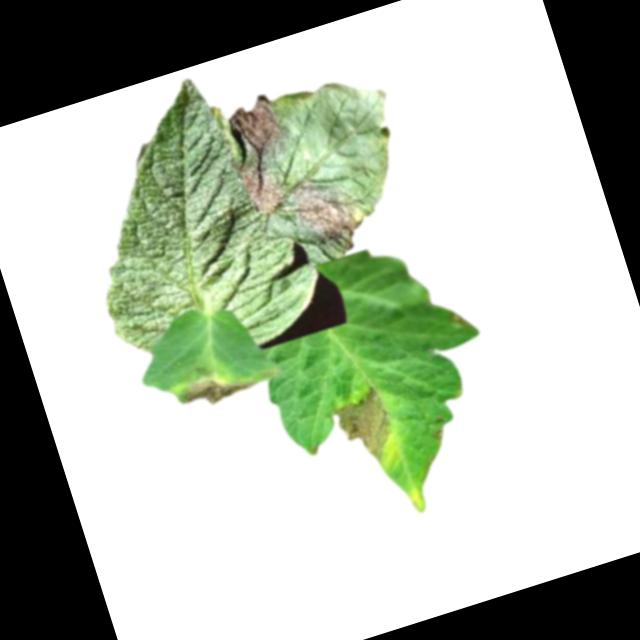Late_blight: (285, 164, 376, 264), (328, 379, 401, 468), (225, 92, 291, 163), (179, 361, 260, 414), (237, 155, 292, 219)
